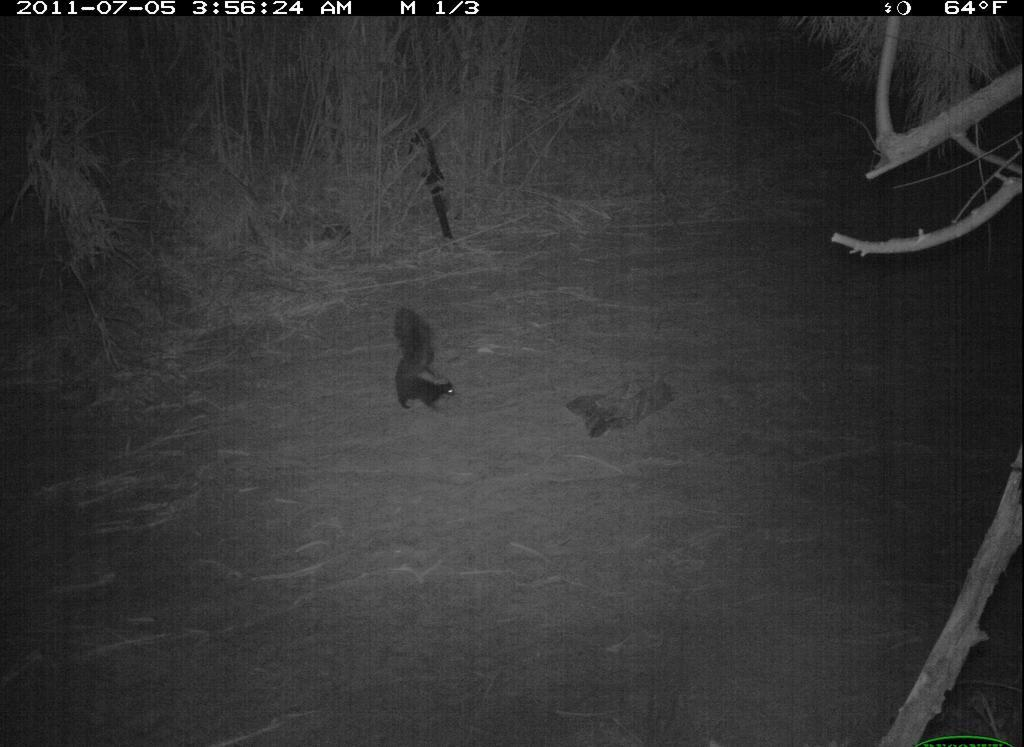skunk: (387, 297, 464, 420)
